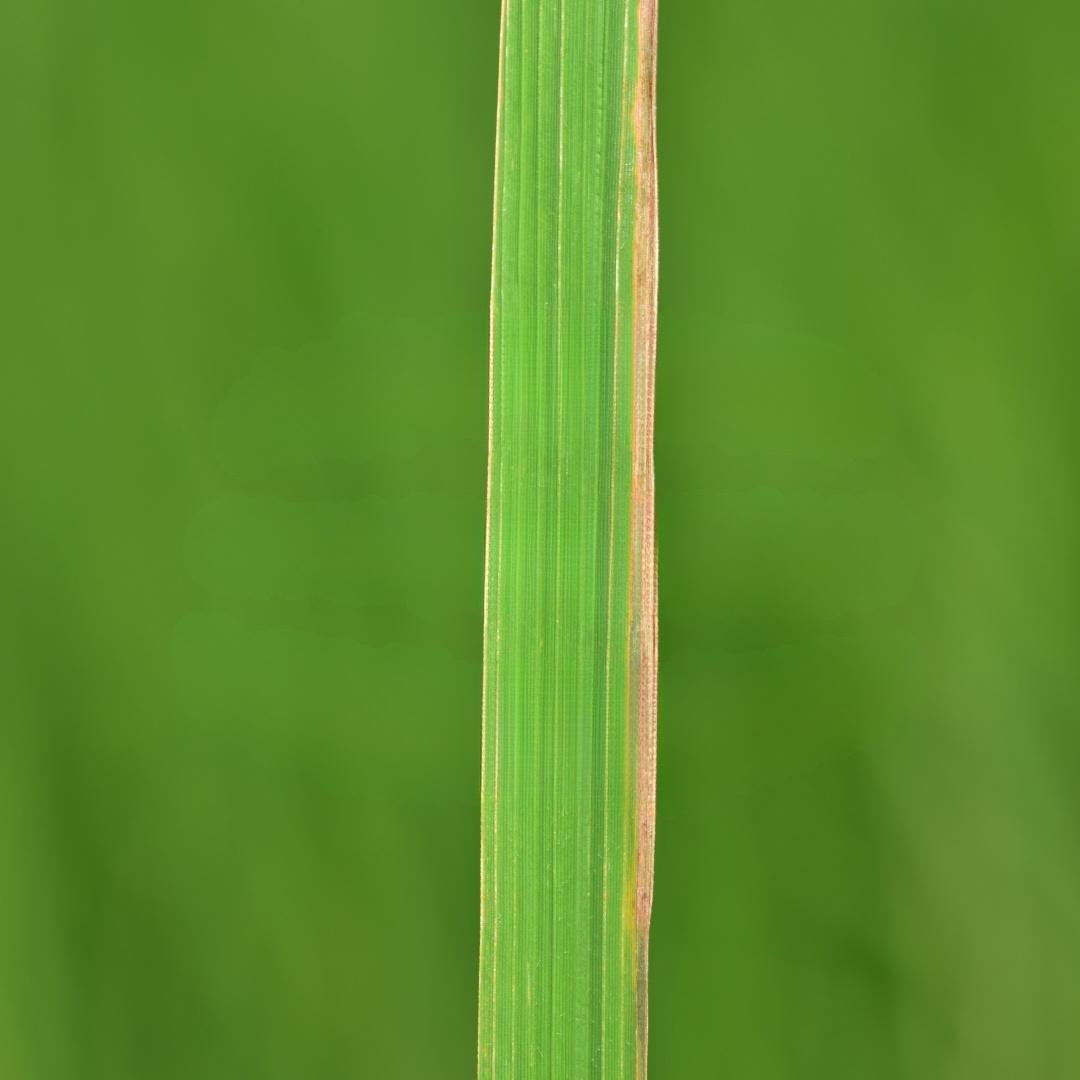BLB: (631, 0, 658, 944)
LEAF: (477, 0, 658, 1079)
